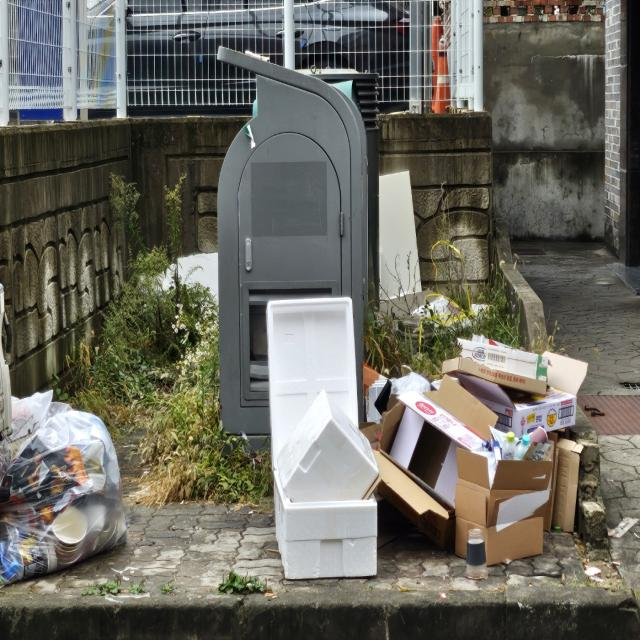CleanNet: (218, 43, 368, 439)
General Waste: (380, 342, 588, 570), (0, 395, 128, 588)
